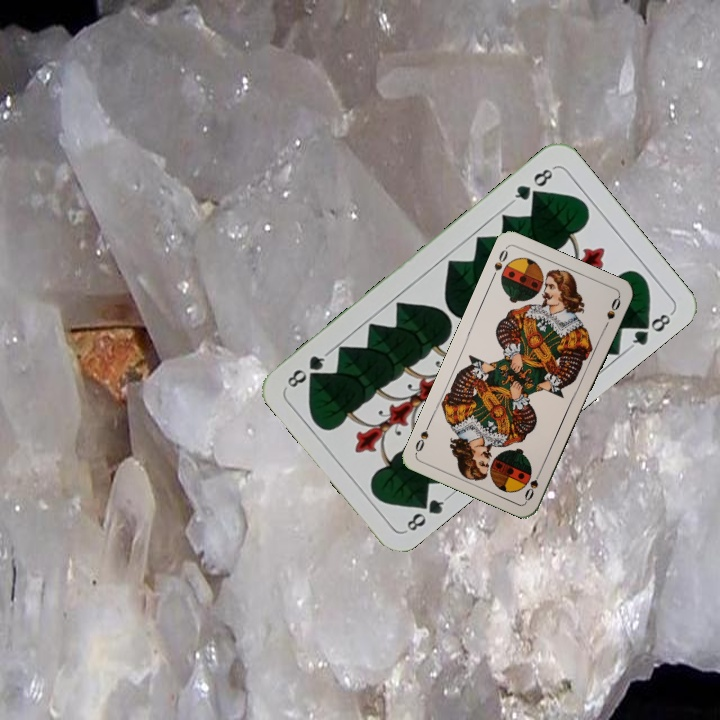G8: (508, 163, 558, 206), (402, 492, 452, 534)
SO: (520, 465, 545, 503), (487, 244, 511, 282)
